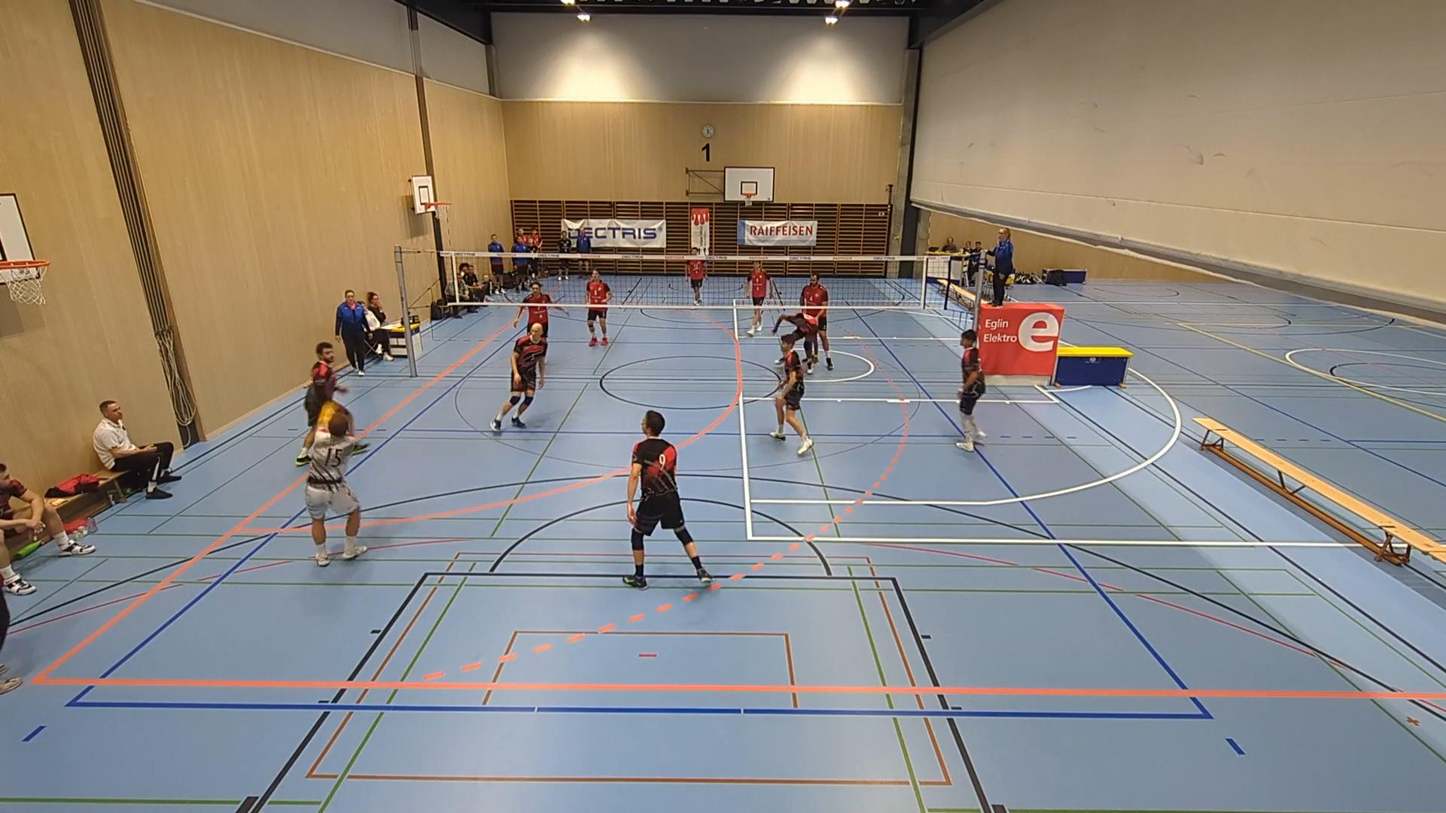ricezione: (302, 403, 373, 566)
